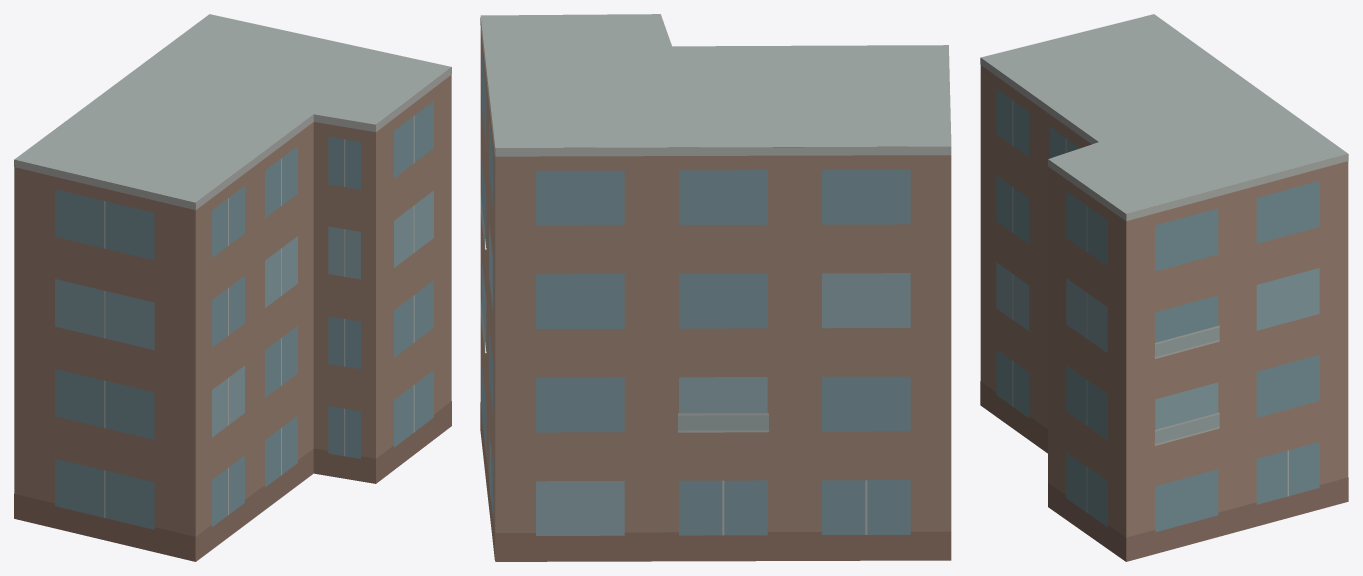
The model's file is survey-upis-32884423.glb.
3 views of the same model, side by side, from view 1: azimuth 30°, elevation 25°; view 2: azimuth 150°, elevation 25°; view 3: azimuth 270°, elevation 25° (orthographic). The views are drawn at different scales.
Visible parts, largest first — view 1: survey-upis-32884423.tmp; view 2: survey-upis-32884423.tmp; view 3: survey-upis-32884423.tmp.
Part boxes in pixels (bbox=[...]): survey-upis-32884423.tmp: bbox=[14, 14, 451, 561]; survey-upis-32884423.tmp: bbox=[480, 14, 951, 561]; survey-upis-32884423.tmp: bbox=[980, 14, 1348, 561].
Bounding box in the file's own units: 14.44 × 11.7 × 11.23.
